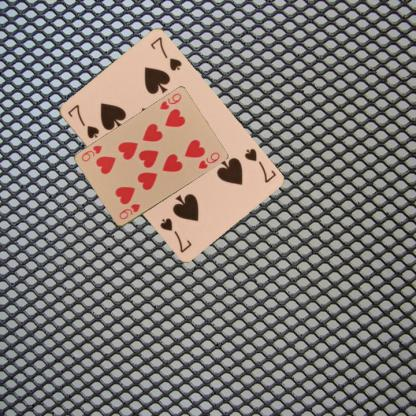7s: (64, 102, 100, 140), (241, 146, 277, 184)
9h: (157, 90, 183, 112), (116, 201, 142, 221)
